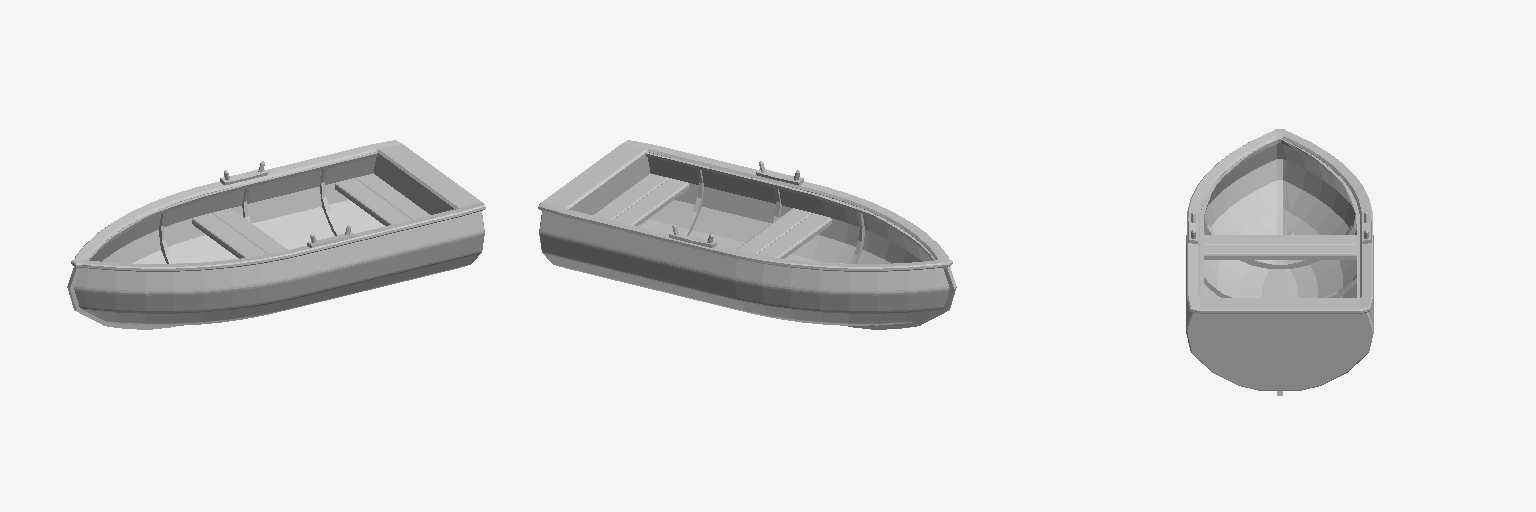
The model's file is rowboat_lp.obj.
The picture shows the model from 3 angles: view 1: azimuth 30°, elevation 25°; view 2: azimuth 150°, elevation 25°; view 3: azimuth 270°, elevation 25°; orthographic projection.
Parts seen in each view (by area): view 1: rowboat_lp:pCube9; view 2: rowboat_lp:pCube9; view 3: rowboat_lp:pCube9.
Boxes of the visible parts, <box> form: rowboat_lp:pCube9: <box>67,140,485,329</box>; rowboat_lp:pCube9: <box>538,140,956,329</box>; rowboat_lp:pCube9: <box>1186,129,1373,395</box>.
Bounding box in the file's own units: 20.92 × 5.4 × 9.08.